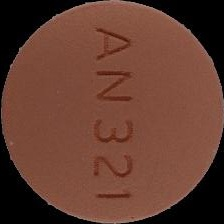65162-321: (0, 0, 224, 224)
